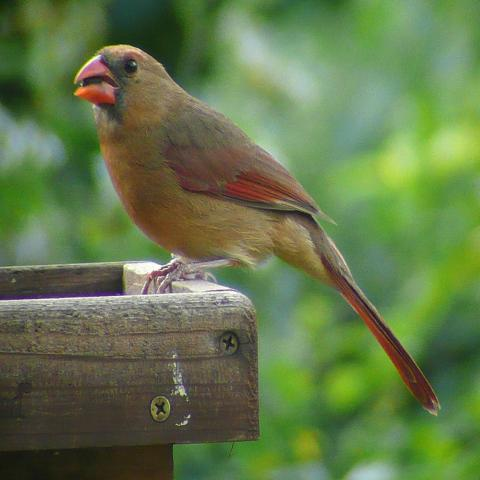bird: (69, 41, 442, 418)
